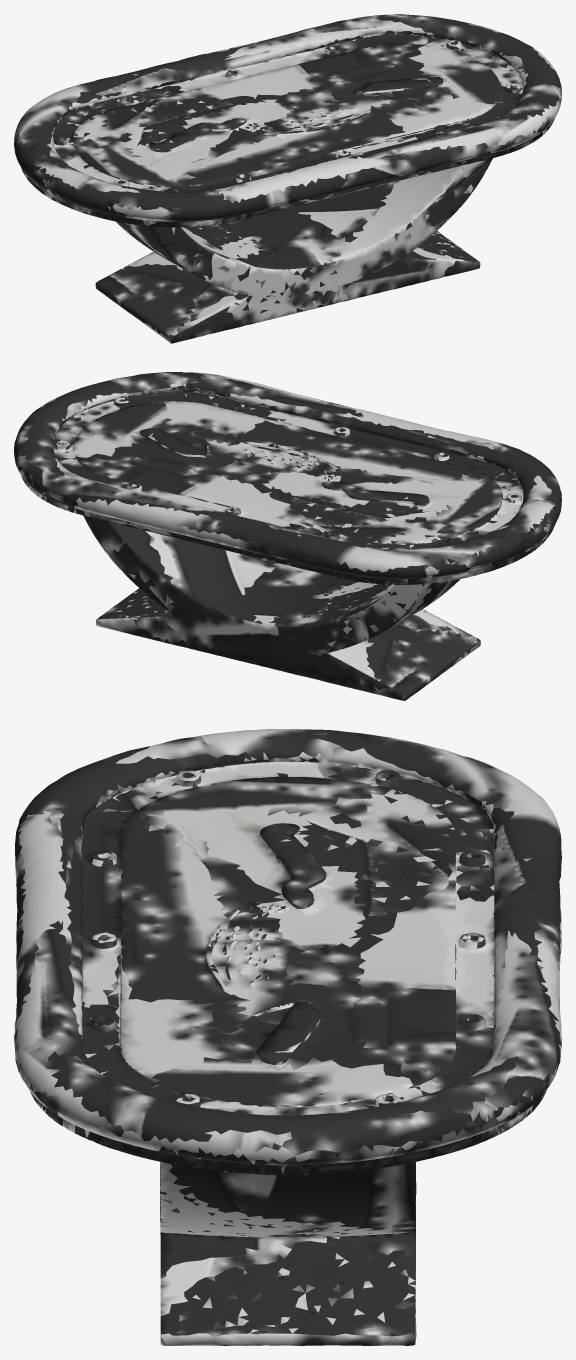
File: Table.obj
3 views of the same model, one above another, from view 1: azimuth 30°, elevation 25°; view 2: azimuth 150°, elevation 25°; view 3: azimuth 270°, elevation 25° (orthographic). The views are drawn at different scales.
Size of the model in its own units: 1.02 by 0.3347 by 0.5677.
